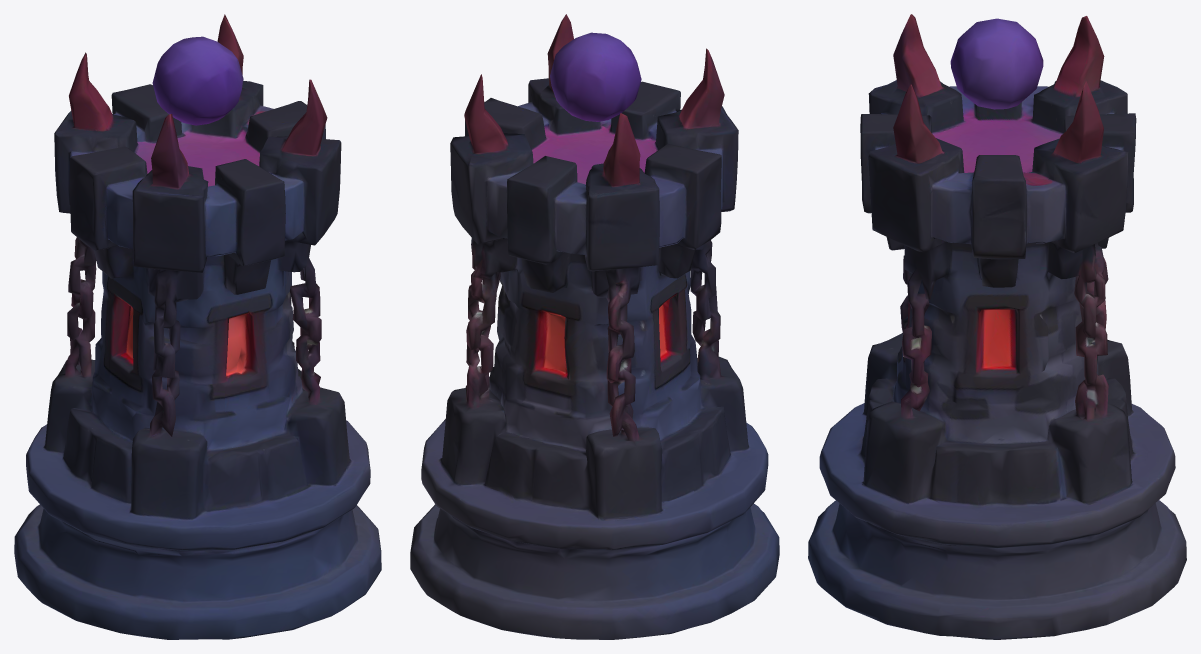
Rendered from ganon_rook_tower.glb.
3 renders of one model, left to right at view 1: azimuth 30°, elevation 25°; view 2: azimuth 150°, elevation 25°; view 3: azimuth 270°, elevation 25°, orthographic. The views are drawn at different scales.
Parts seen in each view (by area): view 1: tripo_node_924d6c0c-6da1-426f-8cec-611fbe2773fa; view 2: tripo_node_924d6c0c-6da1-426f-8cec-611fbe2773fa; view 3: tripo_node_924d6c0c-6da1-426f-8cec-611fbe2773fa.
Boxes of the visible parts, x1,y1,x2,y2 form: tripo_node_924d6c0c-6da1-426f-8cec-611fbe2773fa: (14,14,381,639); tripo_node_924d6c0c-6da1-426f-8cec-611fbe2773fa: (410,14,779,639); tripo_node_924d6c0c-6da1-426f-8cec-611fbe2773fa: (808,14,1186,639).
Size of the model in its own units: 0.5591 by 0.8794 by 0.5601.
1 material, 1 textured.
